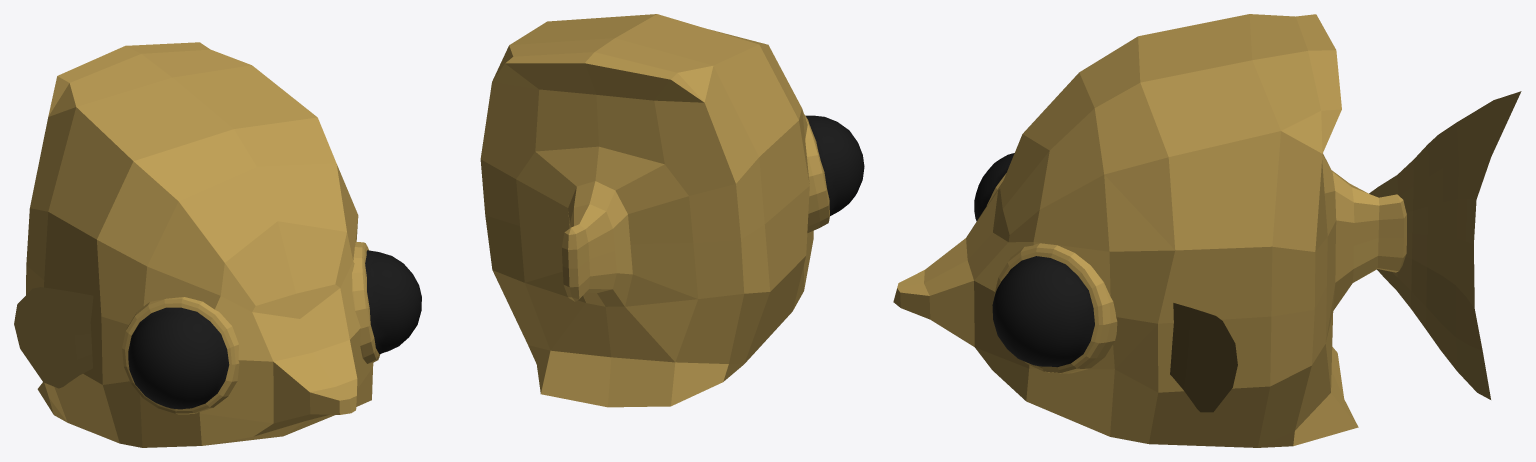
File: YellowTang.glb
The picture shows the model from 3 angles, left to right: view 1: azimuth 30°, elevation 25°; view 2: azimuth 150°, elevation 25°; view 3: azimuth 270°, elevation 25°; orthographic projection. The views are drawn at different scales.
Visible parts, largest first — view 1: YellowTang_Icosphere.025; view 2: YellowTang_Icosphere.025; view 3: YellowTang_Icosphere.025.
Part boxes in pixels (x1=…): YellowTang_Icosphere.025: x1=14, y1=42, x2=421, y2=447; YellowTang_Icosphere.025: x1=480, y1=14, x2=864, y2=407; YellowTang_Icosphere.025: x1=893, y1=14, x2=1521, y2=447.
Size of the model in its own units: 3.22 by 2.87 by 4.48.
